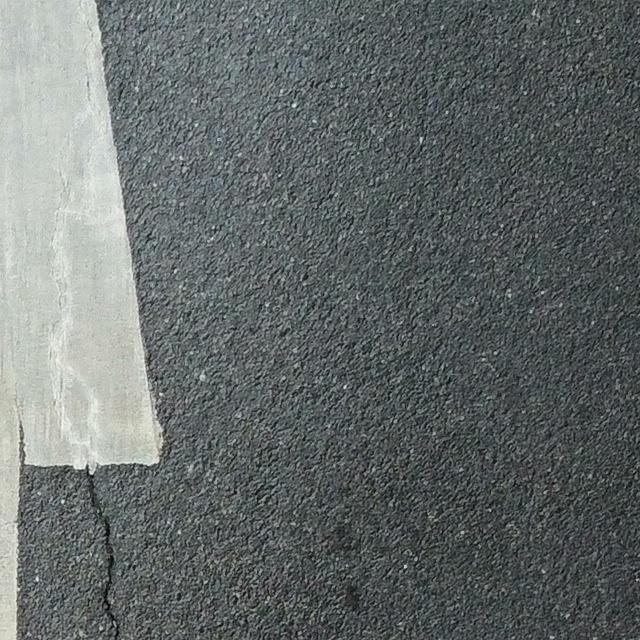LongitudinalCrack: (83, 467, 121, 640)
